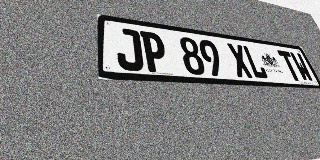8: (178, 36, 206, 75)
9: (197, 39, 225, 76)
J: (115, 27, 144, 71)
L: (242, 45, 269, 79)
P: (140, 31, 169, 73)
T: (277, 50, 303, 81)
W: (289, 52, 315, 82)
X: (226, 43, 254, 78)
